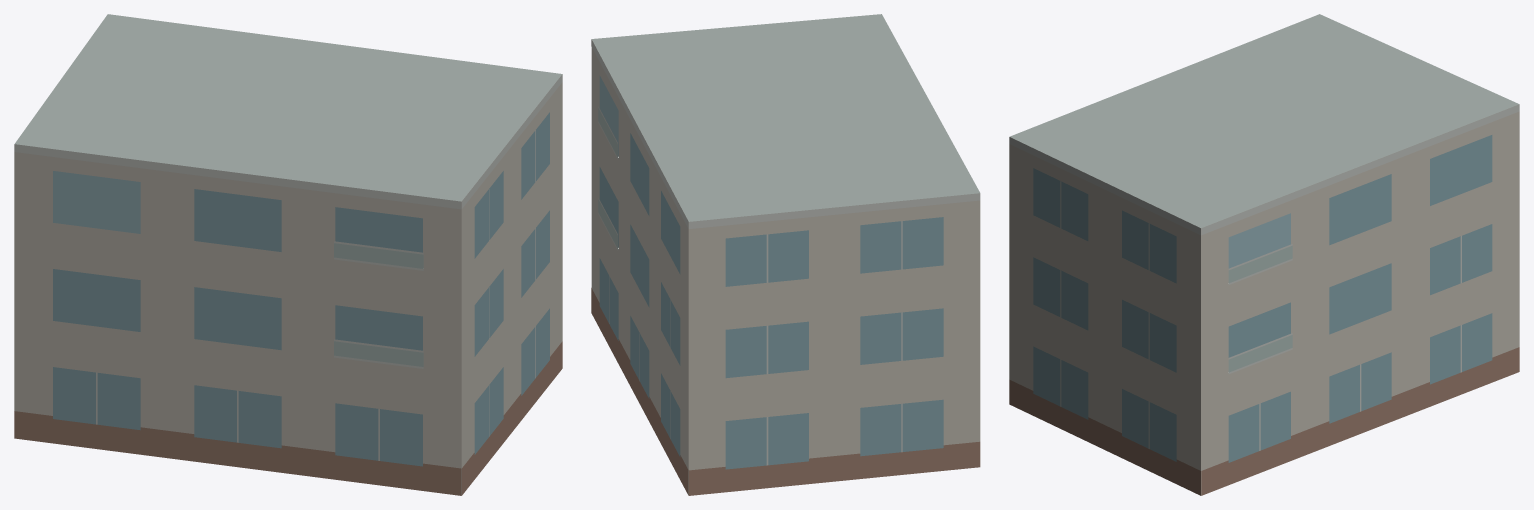
File: survey-upis-32920254.glb
The picture shows the model from 3 angles, left to right: view 1: azimuth 30°, elevation 25°; view 2: azimuth 150°, elevation 25°; view 3: azimuth 270°, elevation 25°; orthographic projection. The views are drawn at different scales.
Visible parts, largest first — view 1: survey-upis-32920254.tmp; view 2: survey-upis-32920254.tmp; view 3: survey-upis-32920254.tmp.
Boxes of the visible parts, x1,y1,x2,y2 form: survey-upis-32920254.tmp: [14, 14, 562, 495]; survey-upis-32920254.tmp: [591, 14, 980, 495]; survey-upis-32920254.tmp: [1009, 14, 1519, 495].
Size of the model in its own units: 15.72 by 9.15 by 15.82.
